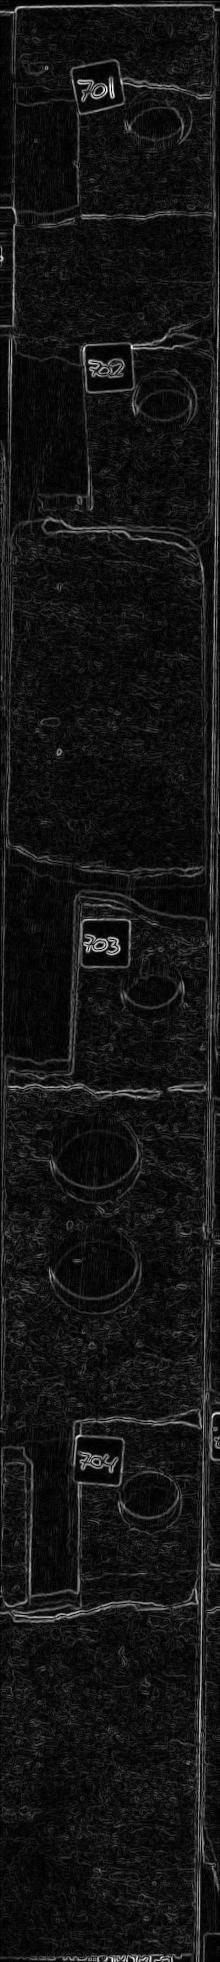hplug: (112, 1468, 187, 1537), (127, 367, 201, 435), (117, 952, 189, 1022), (121, 86, 197, 151)
scal: (45, 1106, 147, 1206), (45, 1217, 142, 1318)
vplug: (17, 327, 99, 524), (5, 893, 85, 1082), (19, 1426, 89, 1614), (19, 74, 89, 230)
